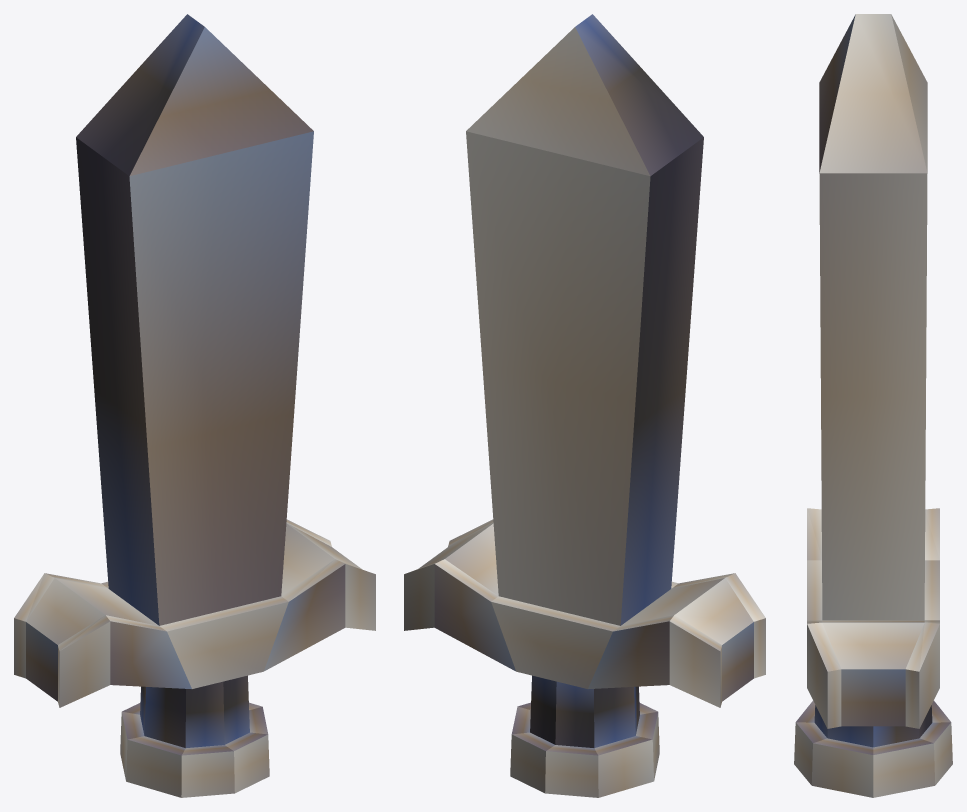
File: sword01.fbx
3 views of the same model, side by side, from view 1: azimuth 30°, elevation 25°; view 2: azimuth 150°, elevation 25°; view 3: azimuth 270°, elevation 25° (orthographic).
Parts seen in each view (by area): view 1: sword01; view 2: sword01; view 3: sword01.
Boxes of the visible parts, box(x1,y1,x2,y2) form: sword01: box(14, 14, 375, 797); sword01: box(404, 14, 765, 797); sword01: box(794, 14, 952, 797).
Size of the model in its own units: 57.91 by 130 by 24.97.
